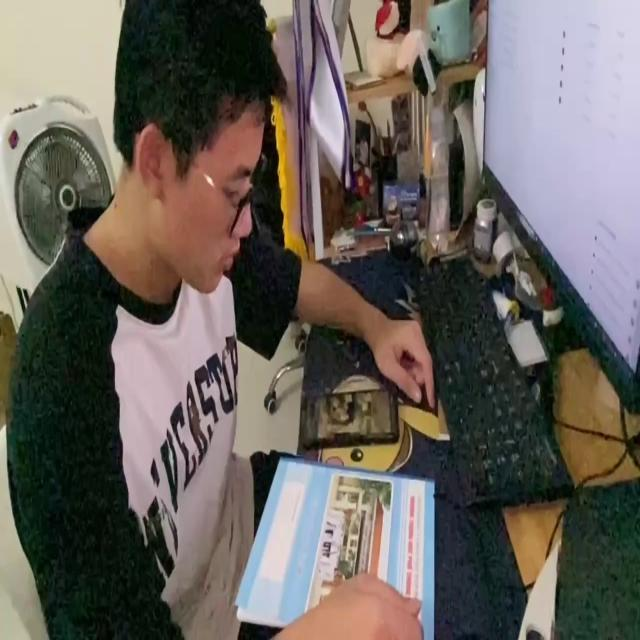book: (234, 448, 435, 640)
laptop: (481, 0, 640, 415)
phone: (298, 378, 402, 448)
student: (4, 0, 437, 640)
